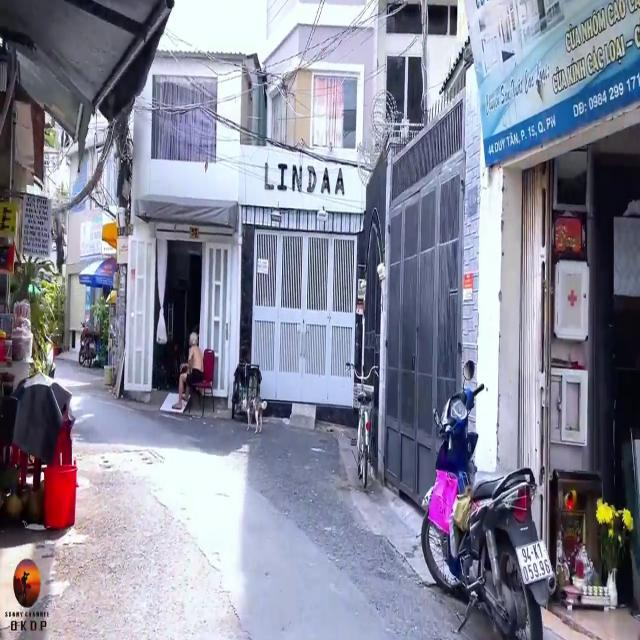bien_trang: (516, 540, 557, 589)
